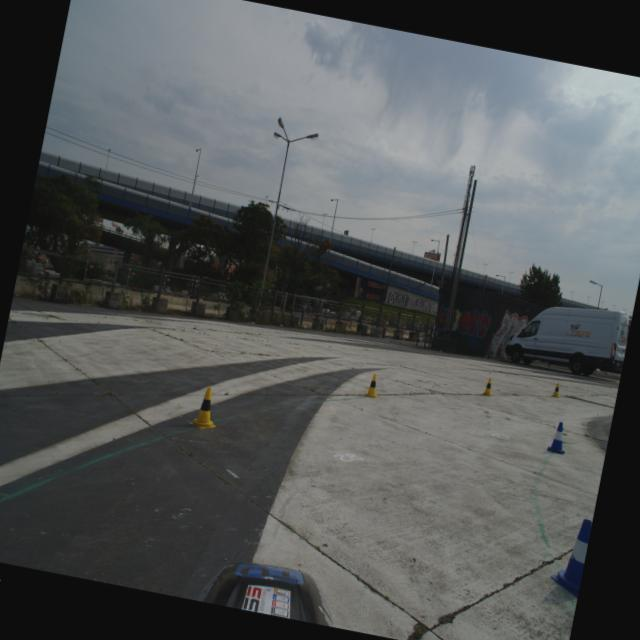blue_cone: (548, 515, 592, 598), (546, 420, 570, 454)
yellow_cone: (189, 385, 223, 431), (364, 373, 382, 399), (481, 378, 496, 398), (551, 382, 563, 398)
